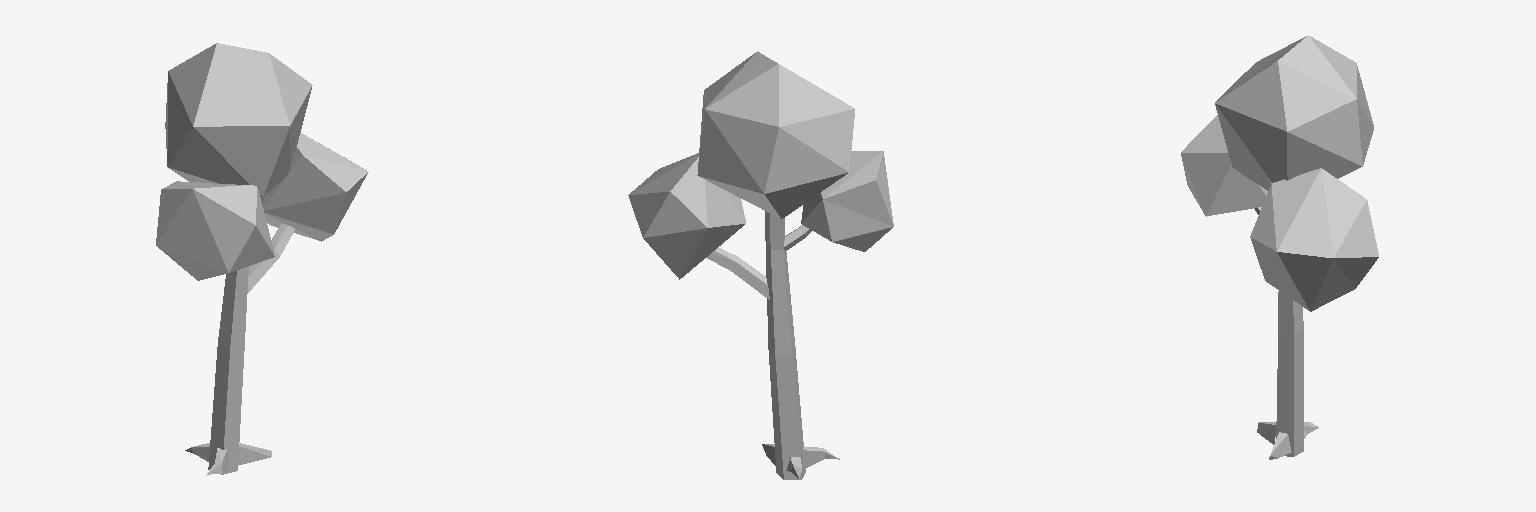
Rendered from tree03.obj.
3 renders of one model, left to right at view 1: azimuth 30°, elevation 25°; view 2: azimuth 150°, elevation 25°; view 3: azimuth 270°, elevation 25°, orthographic.
Parts seen in each view (by area): view 1: tree03_Cylinder.003; view 2: tree03_Cylinder.003; view 3: tree03_Cylinder.003.
Part boxes in pixels (x1,y1,x2,y2): tree03_Cylinder.003: (156,43,368,475); tree03_Cylinder.003: (628,51,893,479); tree03_Cylinder.003: (1181,35,1378,459).
Size of the model in its own units: 2.12 by 3.74 by 1.61.